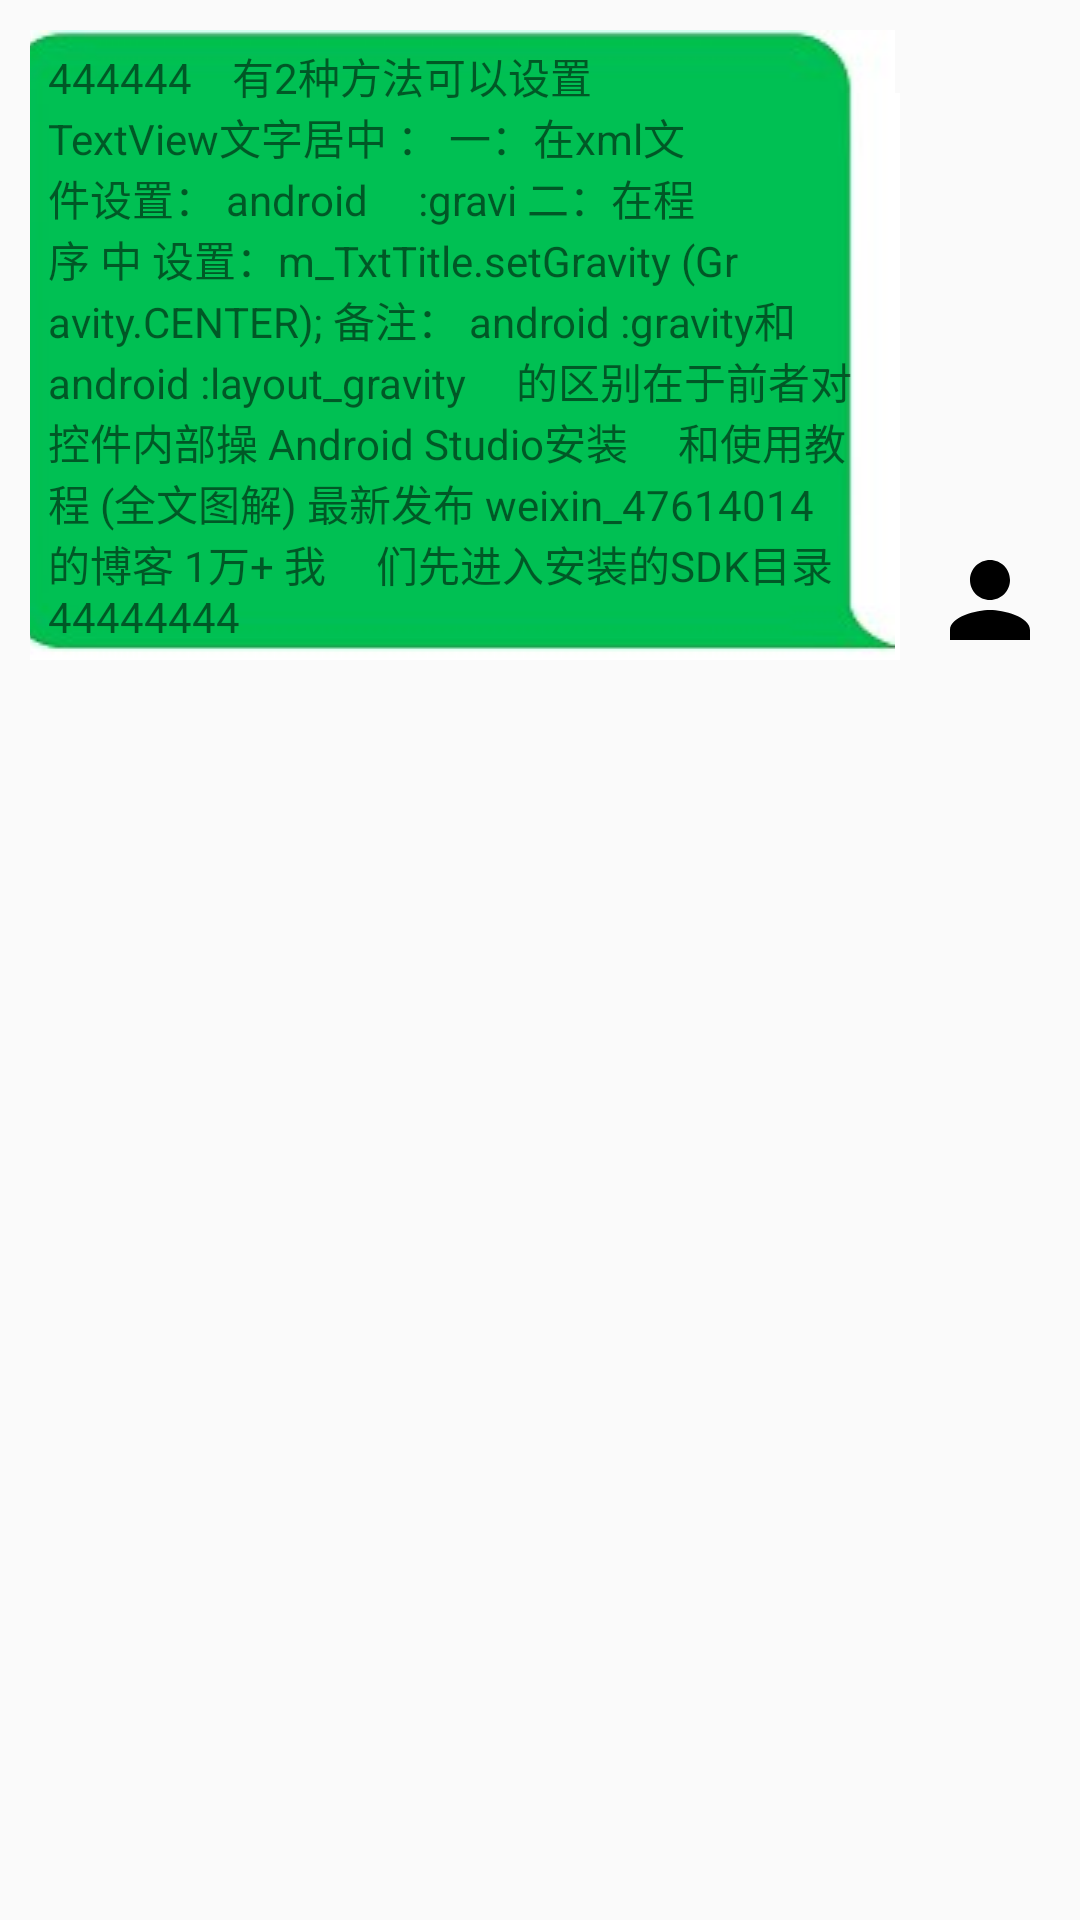

Named icons in this screenshot (1080×1920) and their centers, point (x, y):
person: point (990, 600)
